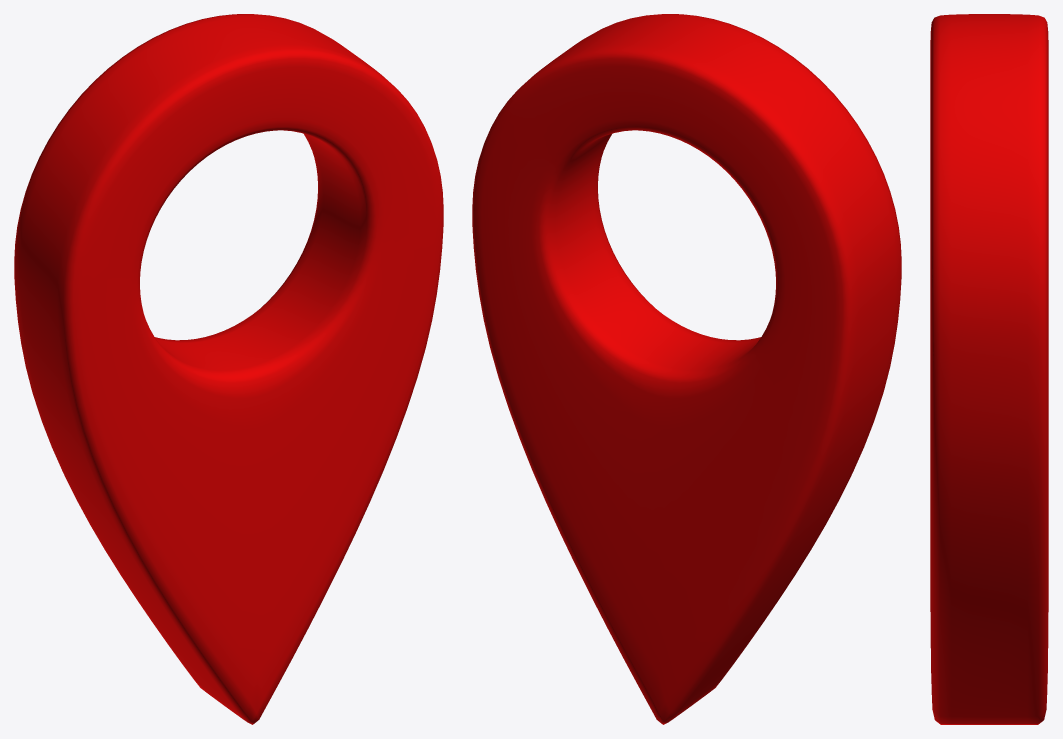
Rendered from Map_Pointer_FBX.FBX.
The picture shows the model from 3 angles, left to right: view 1: azimuth 30°, elevation 25°; view 2: azimuth 150°, elevation 25°; view 3: azimuth 270°, elevation 25°; orthographic projection. The views are drawn at different scales.
Parts seen in each view (by area): view 1: Map pointer; view 2: Map pointer; view 3: Map pointer.
Boxes of the visible parts, bbox=[...] form: Map pointer: bbox=[14, 14, 443, 724]; Map pointer: bbox=[472, 14, 901, 724]; Map pointer: bbox=[930, 14, 1048, 724].
Size of the model in its own units: 213 by 358 by 55.74.
